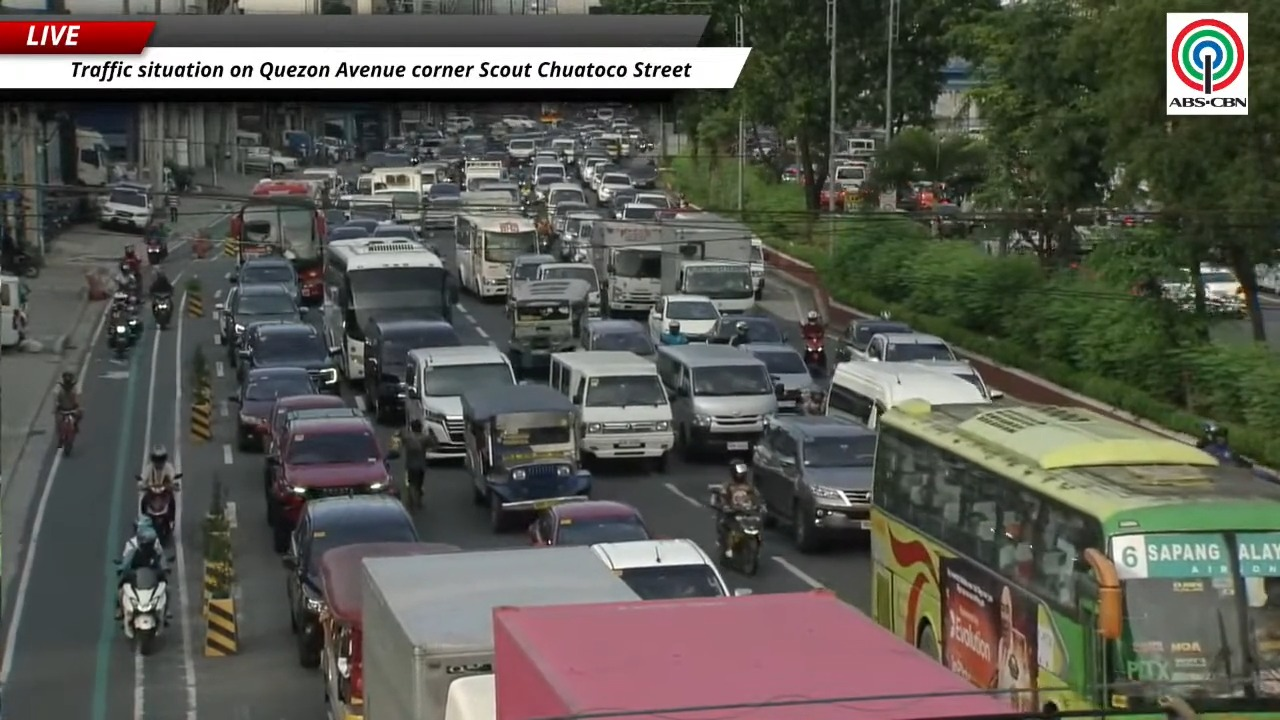bus: (871, 400, 1279, 716), (323, 238, 457, 381), (230, 180, 326, 304), (455, 214, 539, 297)
car: (284, 496, 419, 667), (266, 417, 398, 552), (752, 416, 876, 552), (364, 318, 461, 420), (263, 404, 364, 501), (591, 538, 748, 599), (264, 394, 353, 480), (230, 367, 318, 450), (237, 322, 338, 392), (215, 282, 302, 362), (529, 500, 652, 545), (739, 342, 817, 412), (648, 294, 720, 344), (835, 318, 913, 361), (580, 318, 655, 359), (866, 332, 958, 361), (1199, 263, 1243, 313), (228, 255, 298, 286), (708, 315, 787, 342), (596, 172, 634, 204), (371, 224, 421, 243), (335, 217, 383, 236), (606, 188, 637, 217), (326, 225, 370, 241), (635, 191, 674, 209), (628, 165, 658, 188)
motorcycle: (708, 484, 763, 575), (119, 567, 167, 655), (137, 473, 180, 545), (719, 509, 762, 575), (109, 318, 134, 357), (803, 335, 826, 376), (12, 247, 39, 278), (58, 411, 77, 455), (152, 295, 172, 329), (146, 237, 167, 265)
truck: (493, 590, 1012, 719), (361, 546, 638, 719), (664, 209, 765, 299), (661, 223, 755, 313), (579, 220, 663, 316), (63, 126, 109, 187), (444, 675, 495, 719), (241, 146, 298, 176), (464, 160, 506, 190)
